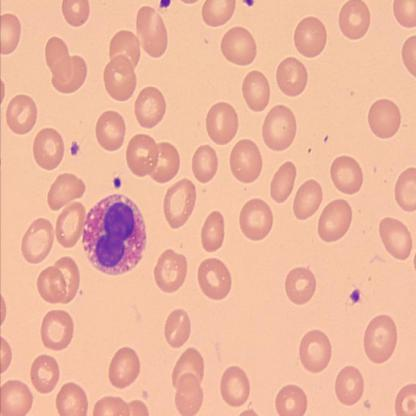Eosinophil: (83, 194, 145, 273)
